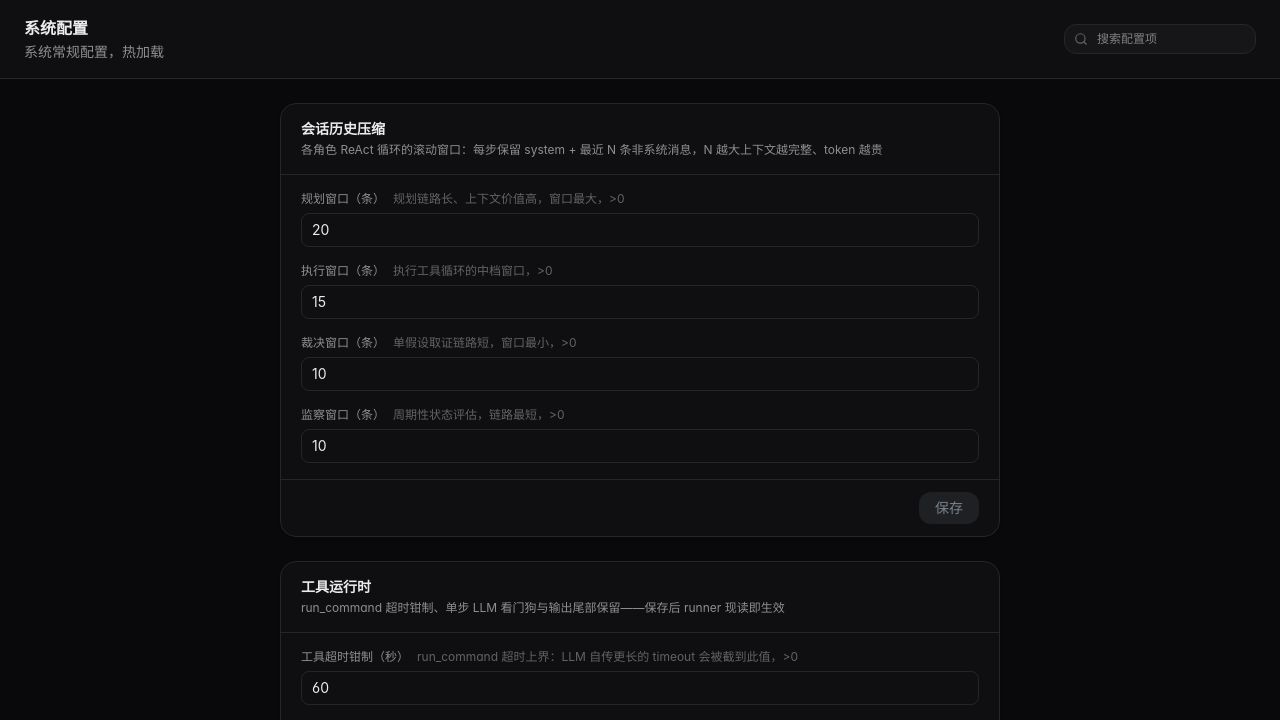
Scenario: SystemConfig › 搜索不存在的关键词显示空状态
The width and height of the screenshot is (1280, 720).
Expected: the heading "会话历史压缩" is shown, left=301, top=122, right=385, bottom=138
Type "不存在的配置项xyz" into the search field with placeholder "搜索配置项".
click(1160, 39); type("不存在的配置项xyz")  # box left=1064, top=24, right=1256, bottom=54
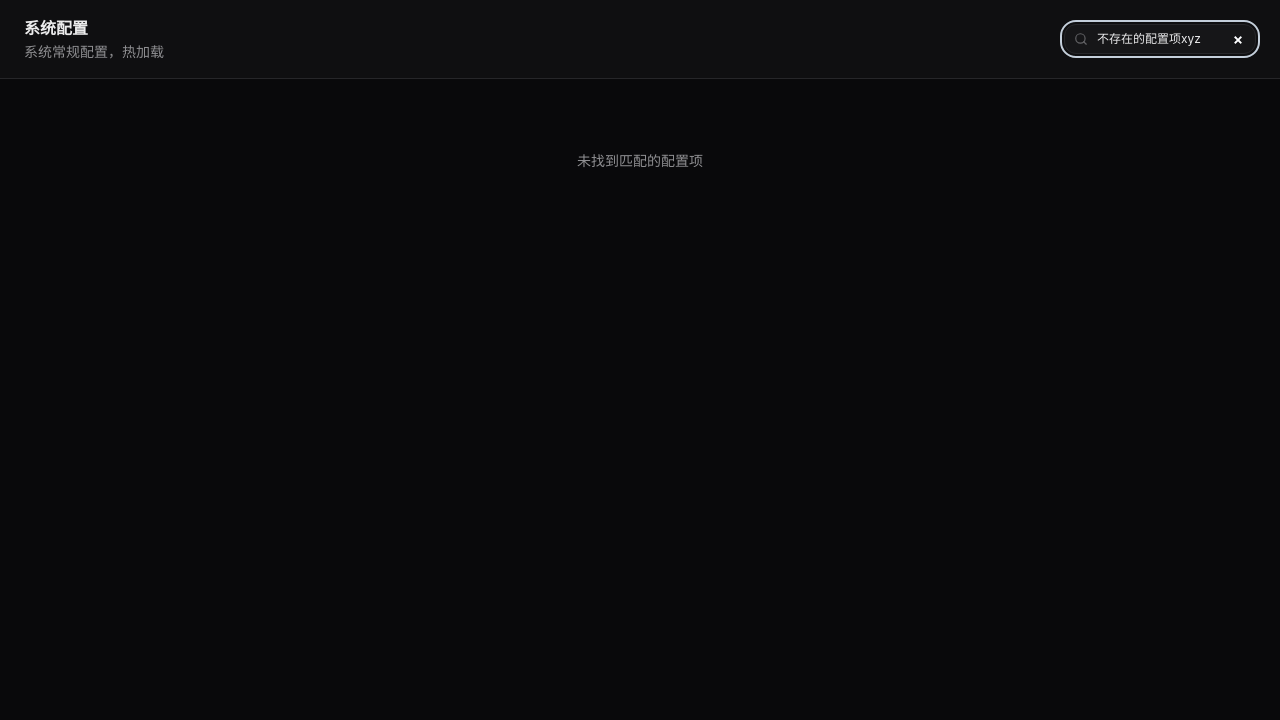
Result: the heading "会话历史压缩" is gone
Result: the heading "工具运行时" is gone
Result: the text "未找到匹配的配置项" is shown at left=577, top=152, right=703, bottom=169
